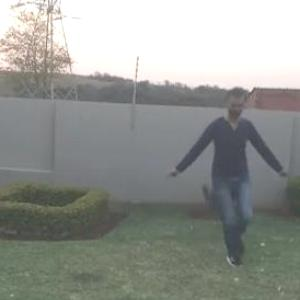land: (180, 87, 290, 250)
